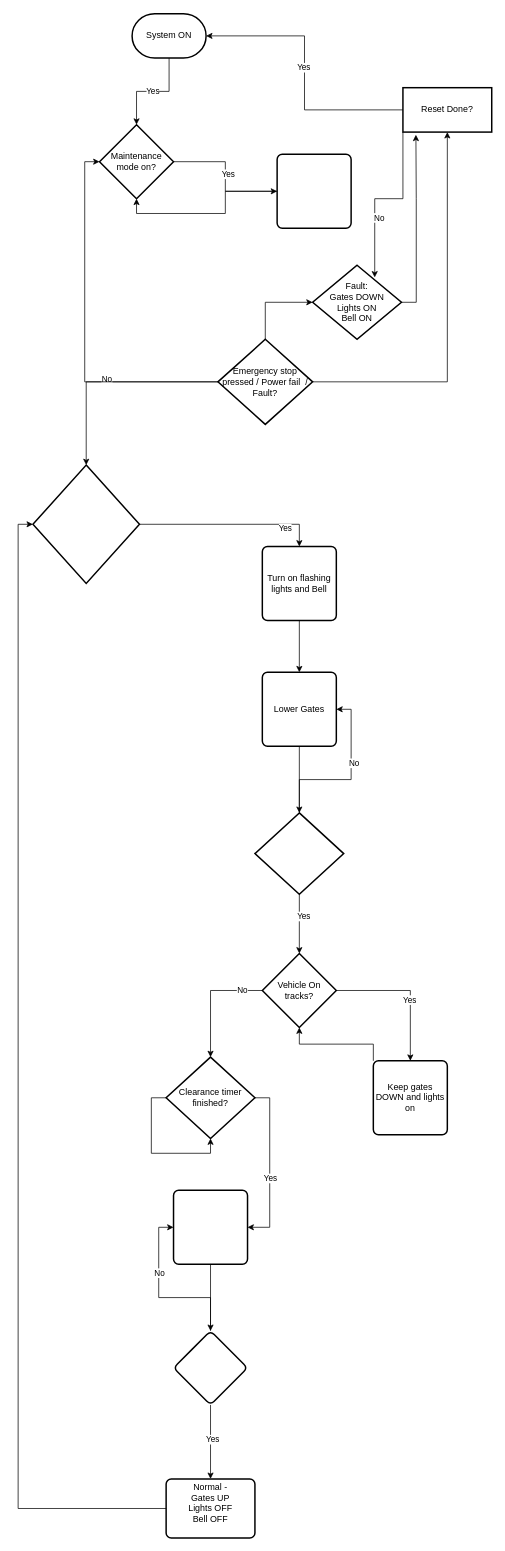
Image size: 505x1551. Some labels were removed from this diagram. Each missing label, with the centre of its shape:
"Gates fully down?" goes at pixel 299 853.
"Gates fully up?" goes at pixel 210 1367.
"Maintenance: Manual Only" goes at pixel 314 191.
"Raise gates" goes at pixel 210 1227.
"Train Approaching OR track occupied?" goes at pixel 86 524.
